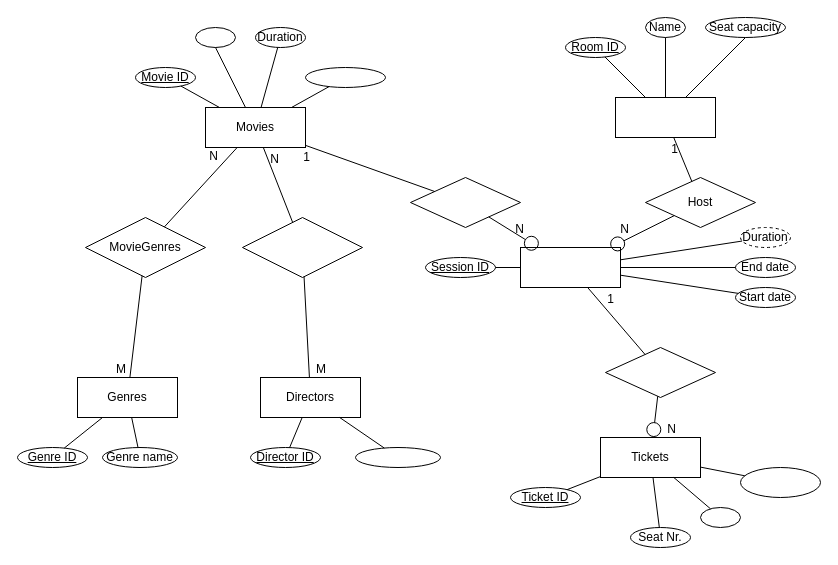
The diagram is 838 pixels wide and 565 high, and some of its shapes have lost their labels. Here are the shapes that lost their labels. From the top down, the centre of each, then its label:
pixel 215 37: Title
pixel 345 77: Release date
pixel 665 117: Rooms
pixel 465 202: Displayed at
pixel 302 247: MovieDirectors
pixel 570 267: Sessions
pixel 660 372: Have
pixel 397 457: Director name
pixel 780 482: Purchase date
pixel 720 517: Price
